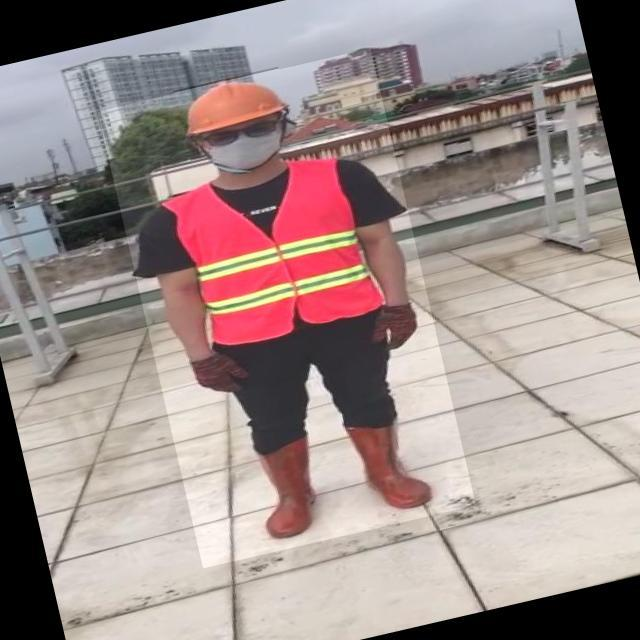Gloves: (188, 345, 251, 400), (368, 303, 422, 353)
Helmet: (173, 67, 289, 138)
Human: (98, 48, 476, 568)
Safety Boot: (242, 435, 328, 543), (349, 412, 434, 517)
Safety Vest: (165, 148, 382, 353)
